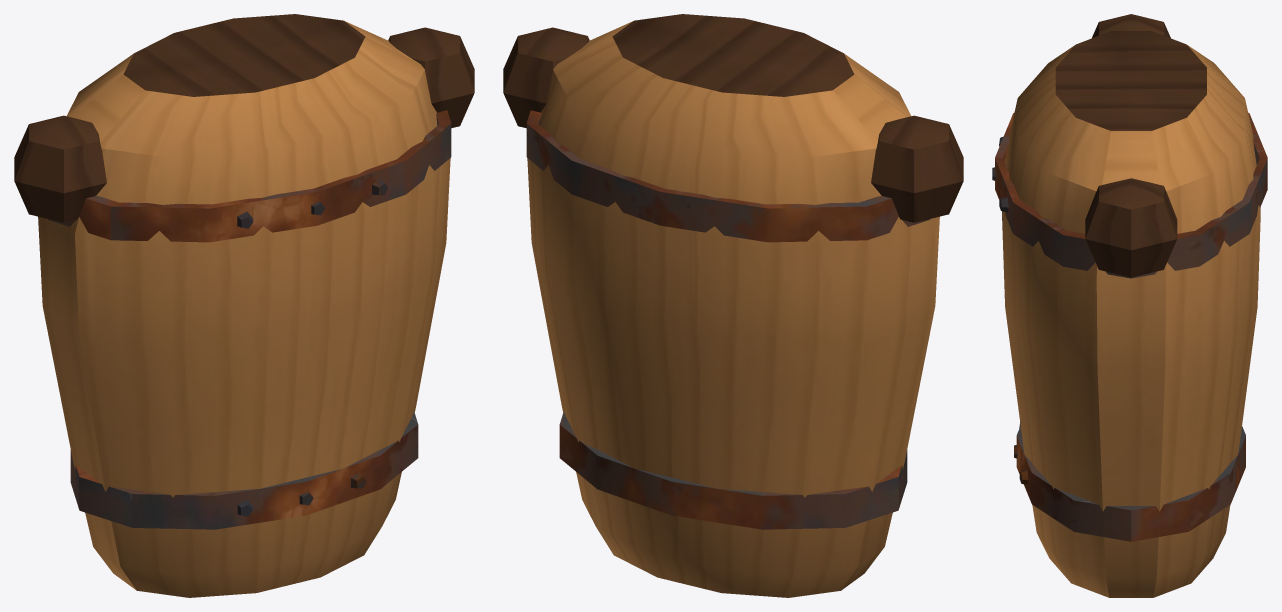
Rendered from Doll_Torso_Shell.glb.
The picture shows the model from 3 angles, left to right: view 1: azimuth 30°, elevation 25°; view 2: azimuth 150°, elevation 25°; view 3: azimuth 270°, elevation 25°; orthographic projection. The views are drawn at different scales.
Visible parts, largest first — view 1: Doll_Torso_Shell; view 2: Doll_Torso_Shell; view 3: Doll_Torso_Shell.
Boxes of the visible parts, x1,y1,x2,y2 form: Doll_Torso_Shell: (14,14,474,597); Doll_Torso_Shell: (503,14,963,597); Doll_Torso_Shell: (992,14,1267,597).
Bounding box in the file's own units: 0.484 × 0.5 × 0.27.
4 materials, 4 textured.
